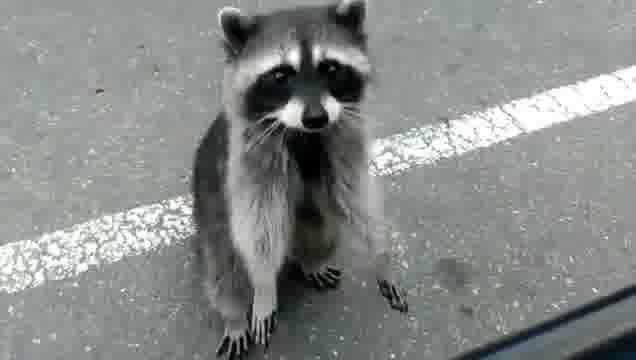raccoon: (193, 0, 410, 360)
